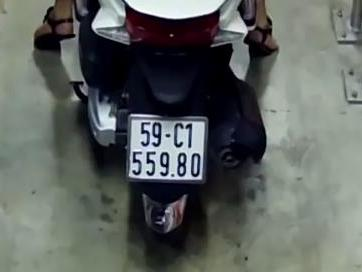num_plate: (126, 114, 207, 182)
